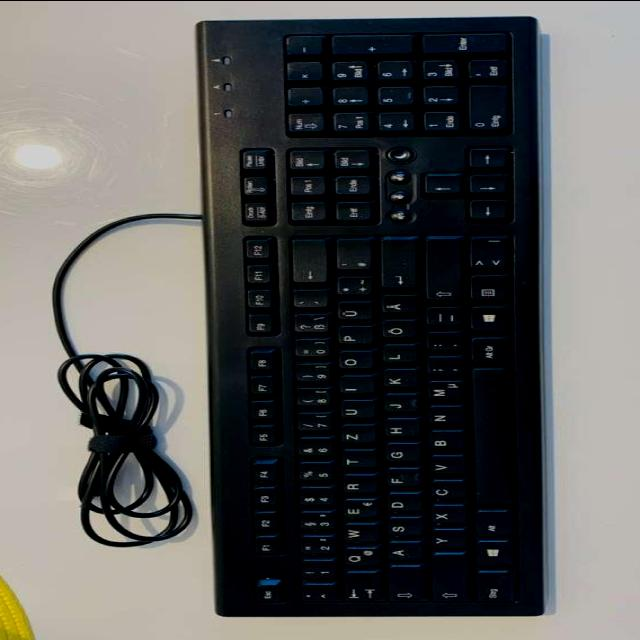0: (290, 340, 328, 359)
1: (297, 561, 335, 581)
2: (295, 537, 335, 557)
3: (293, 513, 333, 533)
4: (293, 490, 331, 508)
5: (292, 464, 332, 484)
6: (292, 439, 332, 459)
7: (292, 414, 330, 434)
8: (291, 389, 331, 409)
9: (290, 365, 330, 385)
a: (382, 544, 420, 562)
accent: (288, 289, 325, 310)
ae: (375, 296, 415, 315)
alt-left: (470, 512, 510, 538)
altgr-right: (465, 338, 505, 364)
b: (423, 431, 461, 452)
c: (426, 481, 463, 501)
caret: (297, 586, 335, 604)
comma: (421, 359, 461, 377)
d: (382, 495, 419, 514)
del: (287, 241, 325, 285)
e: (337, 500, 375, 520)
enter: (375, 240, 415, 290)
f: (381, 470, 418, 488)
g: (380, 444, 418, 464)
h: (380, 420, 417, 438)
hash: (332, 240, 370, 272)
i: (335, 378, 371, 396)
j: (379, 396, 417, 414)
k: (377, 370, 417, 390)
keyboard: (189, 15, 549, 621)
l: (378, 346, 415, 364)
less: (465, 236, 507, 272)
m: (422, 382, 462, 403)
minus: (421, 307, 461, 327)
n: (423, 408, 461, 427)
o: (334, 352, 372, 372)
oe: (376, 320, 416, 340)
p: (333, 329, 371, 347)
plus: (331, 275, 371, 297)
point: (422, 333, 460, 353)
q: (340, 549, 378, 568)
r: (337, 476, 374, 496)
s: (382, 519, 419, 538)
shift-left: (426, 556, 466, 604)
shift-lock: (383, 568, 423, 604)
shift-right: (421, 240, 459, 302)
space: (467, 370, 511, 506)
ss: (288, 316, 328, 335)
strg-left: (471, 572, 513, 605)
t: (337, 451, 374, 471)
tab: (340, 574, 380, 604)
u: (335, 402, 373, 421)
ue: (333, 302, 371, 322)
v: (424, 458, 462, 476)
w: (339, 525, 375, 544)
x: (425, 506, 463, 526)
y: (427, 531, 463, 550)
z: (336, 427, 373, 445)
